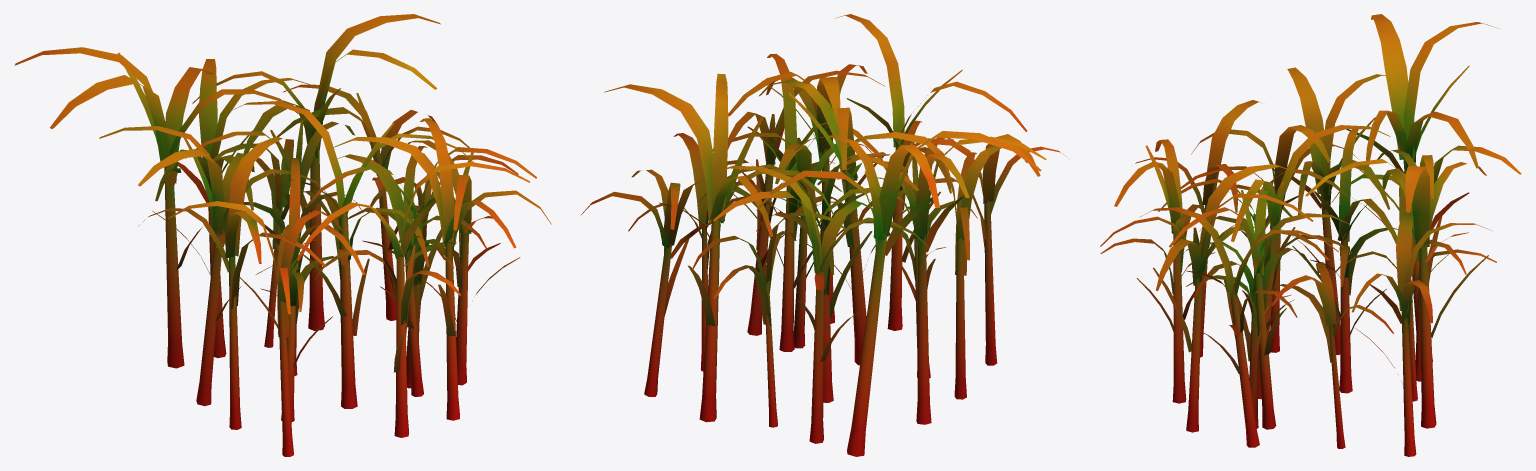
The model's file is SM_SugarCane_3.fbx.
3 views of the same model, side by side, from view 1: azimuth 30°, elevation 25°; view 2: azimuth 150°, elevation 25°; view 3: azimuth 270°, elevation 25° (orthographic). The views are drawn at different scales.
Parts seen in each view (by area): view 1: SM_SugarCane_3; view 2: SM_SugarCane_3; view 3: SM_SugarCane_3.
Boxes of the visible parts, x1,y1,x2,y2 form: SM_SugarCane_3: [14, 14, 551, 456]; SM_SugarCane_3: [581, 14, 1069, 456]; SM_SugarCane_3: [1100, 14, 1521, 456].
Bounding box in the file's own units: 1.82 × 1.34 × 1.7.
